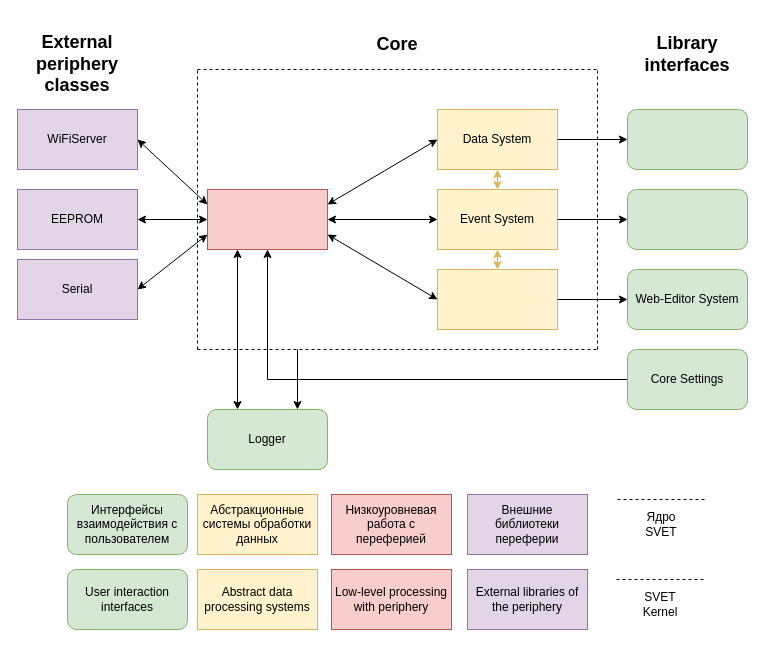
This 765x647 diagram has some shape labels left out. The shapes that lost their labels are listed below. From the top down, each one's centre as x and y in pixels, then its label:
the point at 687,139: State Interface
the point at 267,219: Perepherial Core
the point at 687,219: Event Interface
the point at 497,299: Web Server
